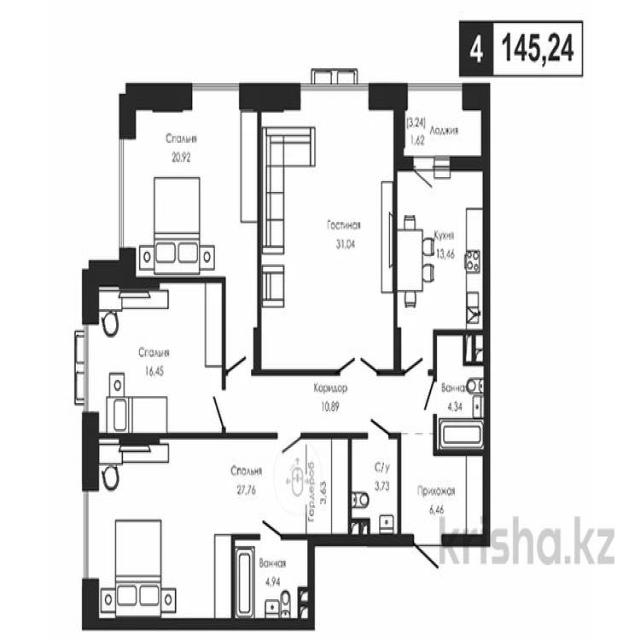balcony: (399, 86, 484, 163)
bathroom: (235, 538, 310, 624), (437, 332, 484, 452), (350, 439, 401, 541)
hallway: (227, 283, 484, 535)
kitchen: (398, 166, 482, 331)
living_room: (262, 87, 393, 370), (124, 90, 258, 278), (94, 443, 233, 620), (91, 278, 223, 431)
